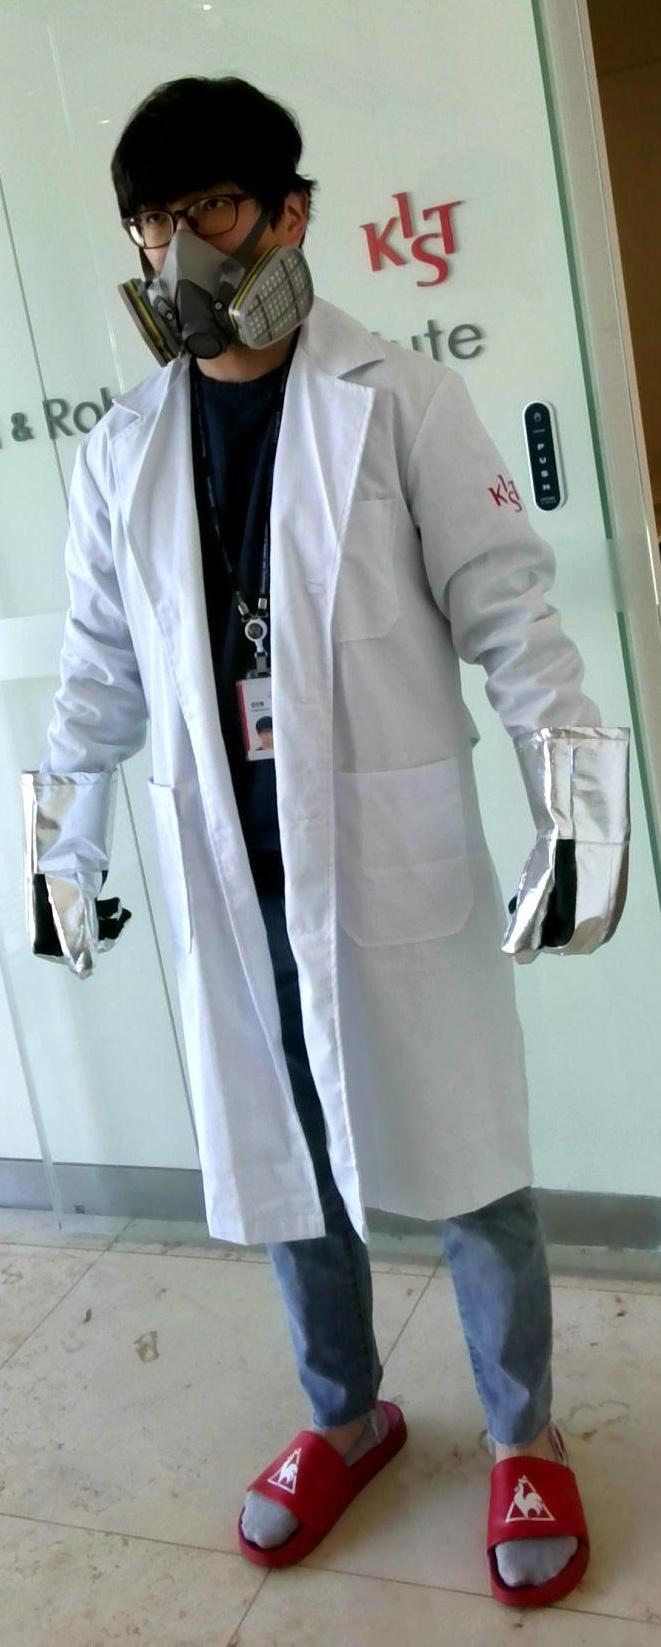lab_coat: (137, 394, 500, 1221)
